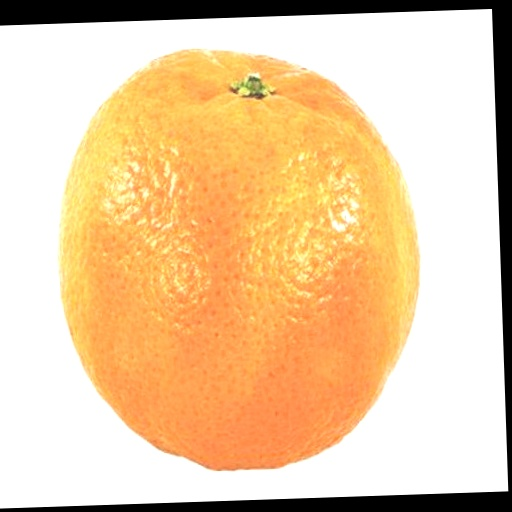fruit: (59, 50, 418, 469)
